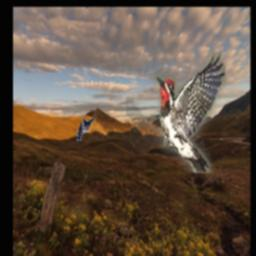Crow: (77, 116, 96, 141)
Woodpecker: (125, 53, 224, 174)
